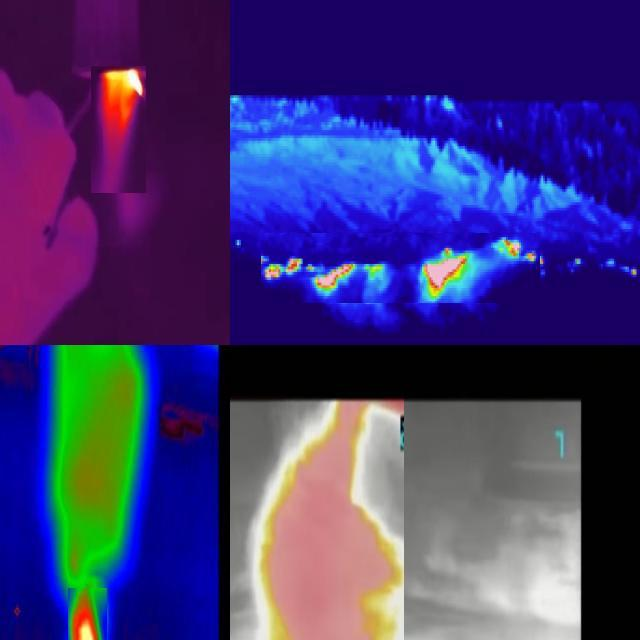fire: (231, 397, 403, 640), (261, 233, 540, 303), (91, 66, 146, 193), (68, 588, 107, 640)
